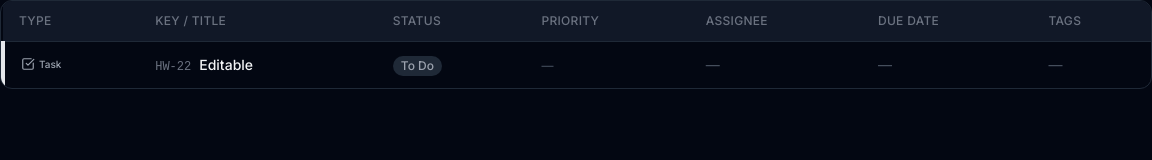
Test case: ListView › issue key › keeps the key visible while the title is being edited
Click the text "Editable".
click(226, 65)  # box [199,55,253,75]
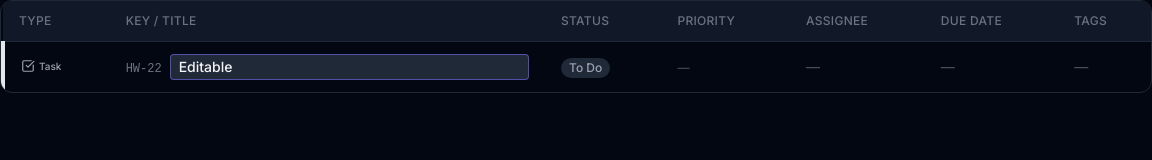
Check: the text with test id "issue-key" reads "HW-22", box [126,62,162,76]
Check: the field holds "Editable", box [170,54,529,80]
